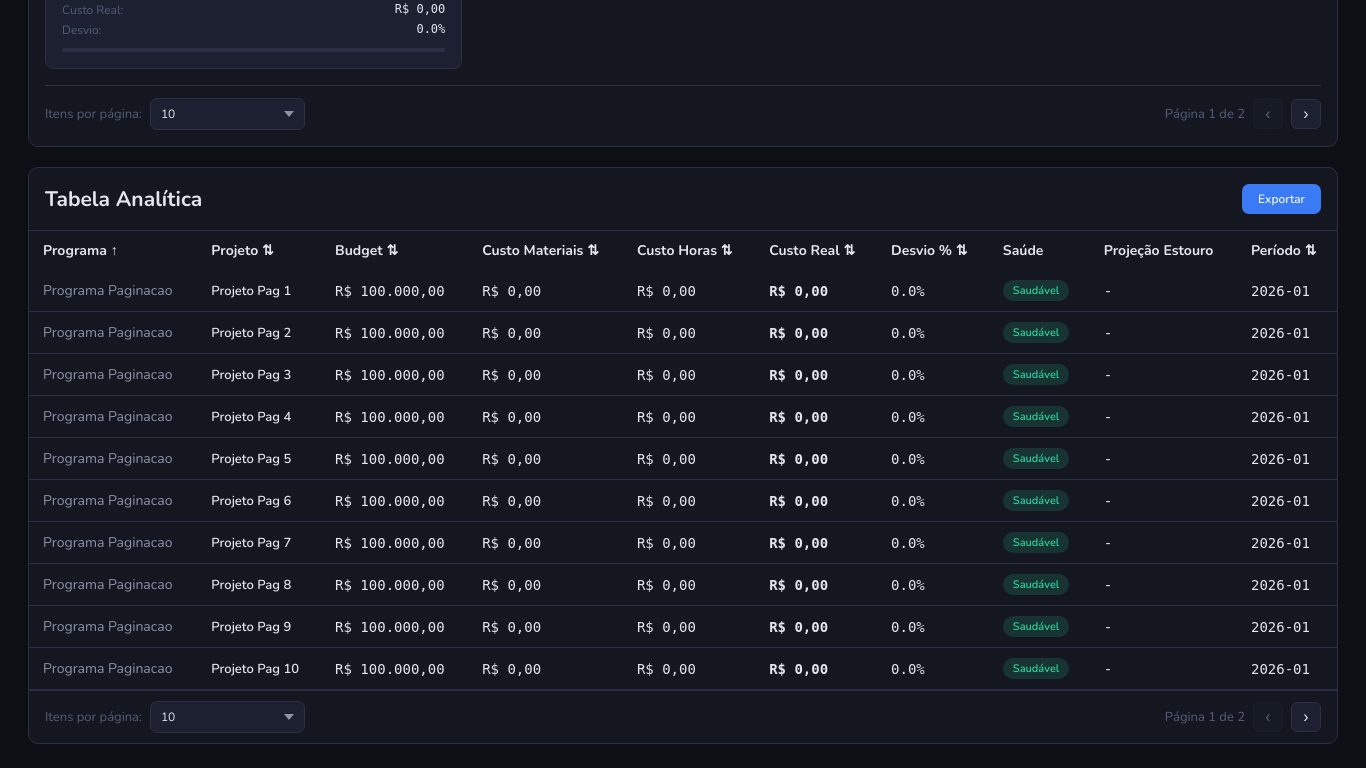
it: OrcamentoSaudeFinanceira.vue – paginação com 15 linhas › tabela navega para página 2 mostrando as 5 linhas restantes
(page scrolled)
Click the button with test id "table-page-next".
click(1306, 717)  # box [1291,702,1321,732]
(page scrolled)
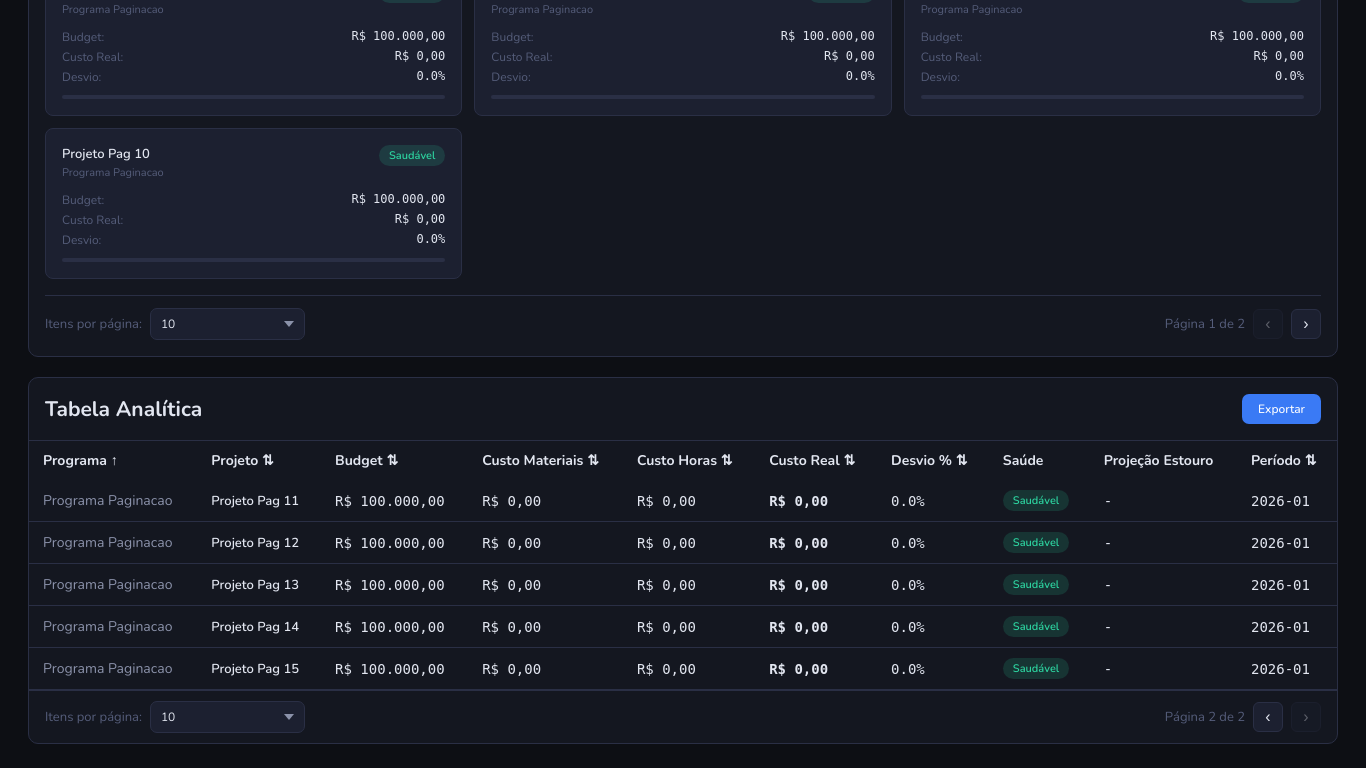
Expected: the text "Página 2 de 2" is shown, [1165,708,1245,726]
